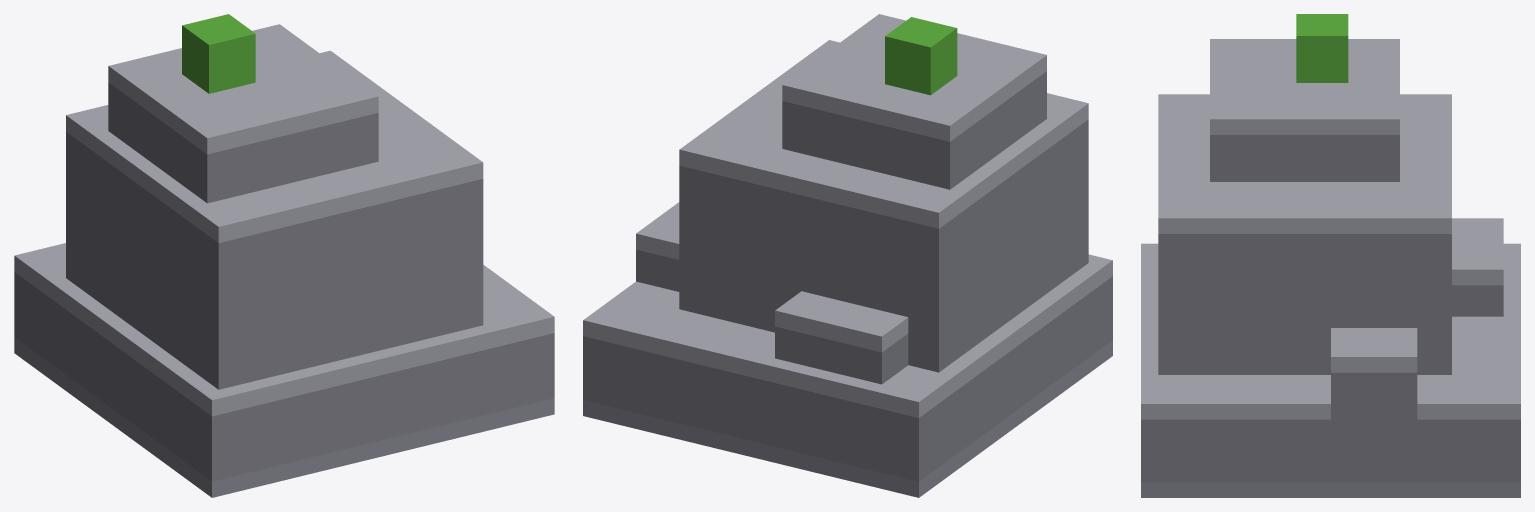
File: deco_rock_outcrop.glb
3 renders of one model, left to right at view 1: azimuth 30°, elevation 25°; view 2: azimuth 150°, elevation 25°; view 3: azimuth 270°, elevation 25°, orthographic. The views are drawn at different scales.
Visible parts, largest first — view 1: model_0; view 2: model_0; view 3: model_0.
Boxes of the visible parts, <box> form: model_0: <box>14,14,554,497</box>; model_0: <box>583,14,1112,497</box>; model_0: <box>1141,14,1520,497</box>.
Size of the model in its own units: 0.88 by 0.92 by 0.88.
